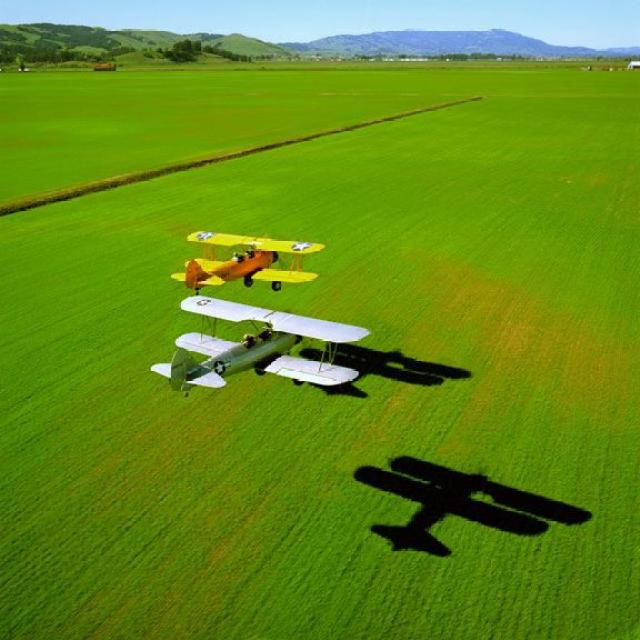iha: (151, 327, 370, 367), (173, 256, 327, 257)
